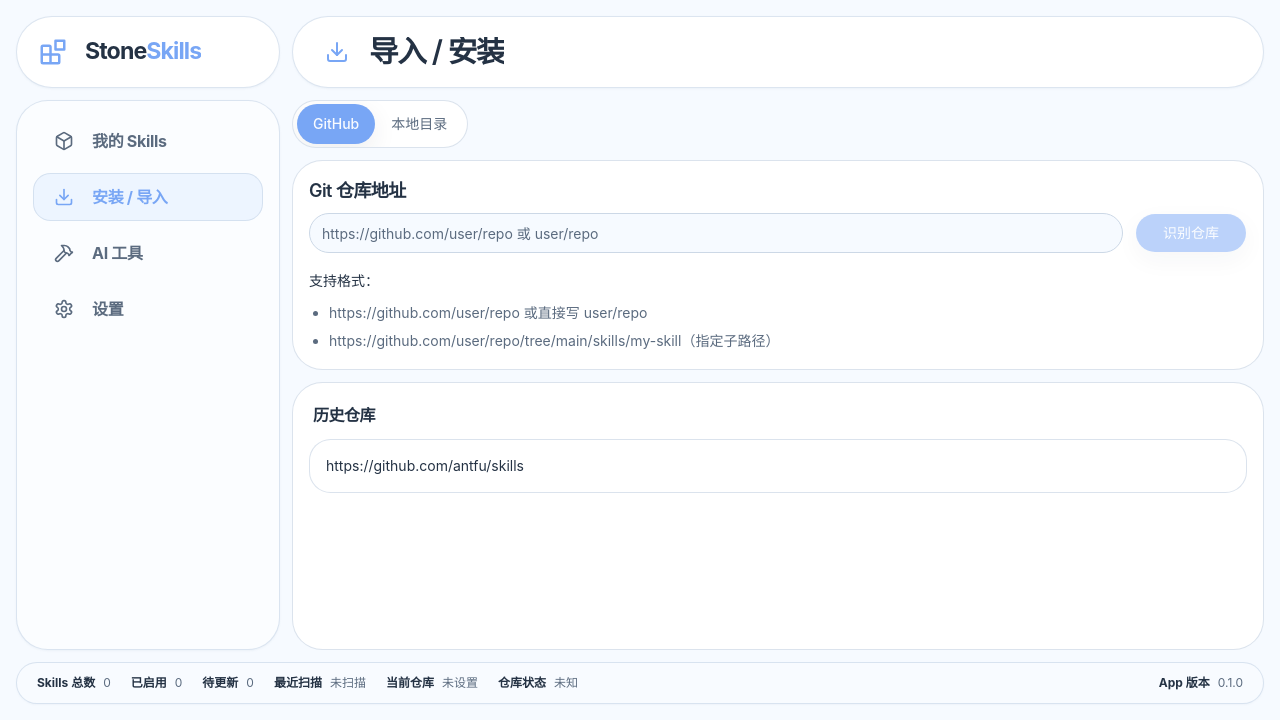
InstallPage › 点击历史仓库会覆盖输入框并直接触发识别
Click the button "https://github.com/antfu/skills".
click(425, 466)  # box [309,439,1247,493]
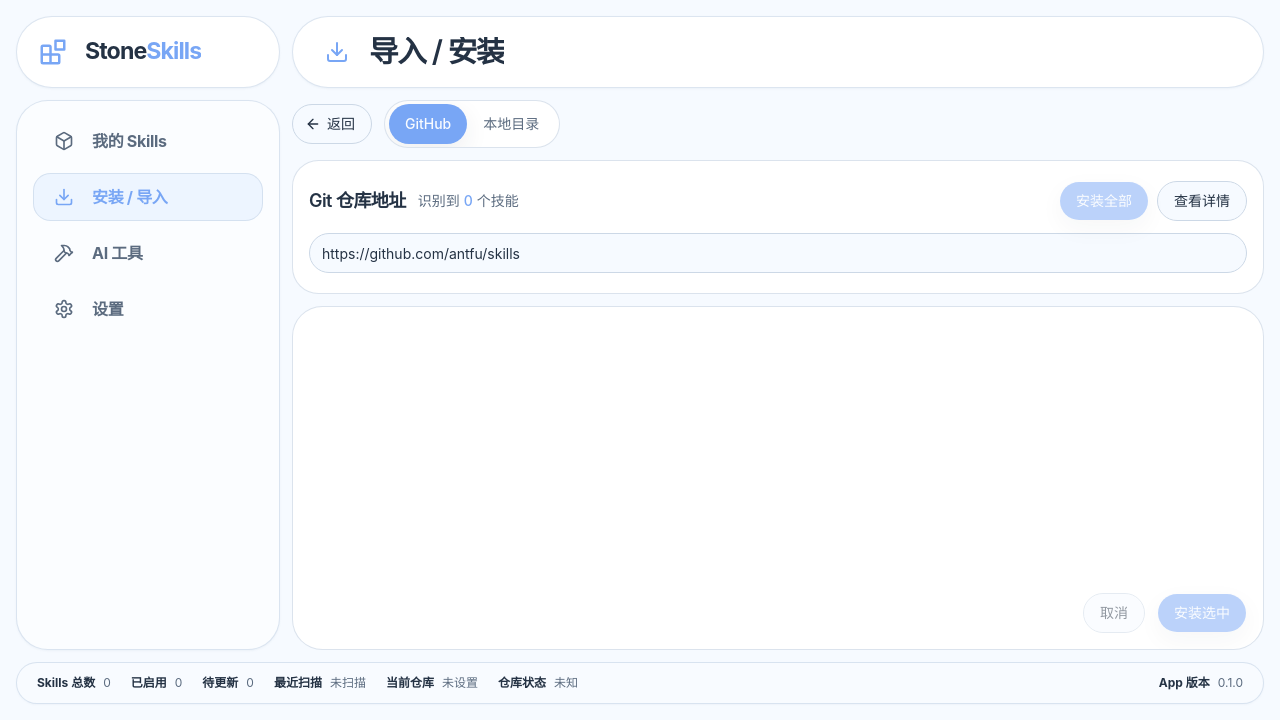
Now the field showing "https://github.com/antfu/skills" is shown, box [309,233,1247,273]
